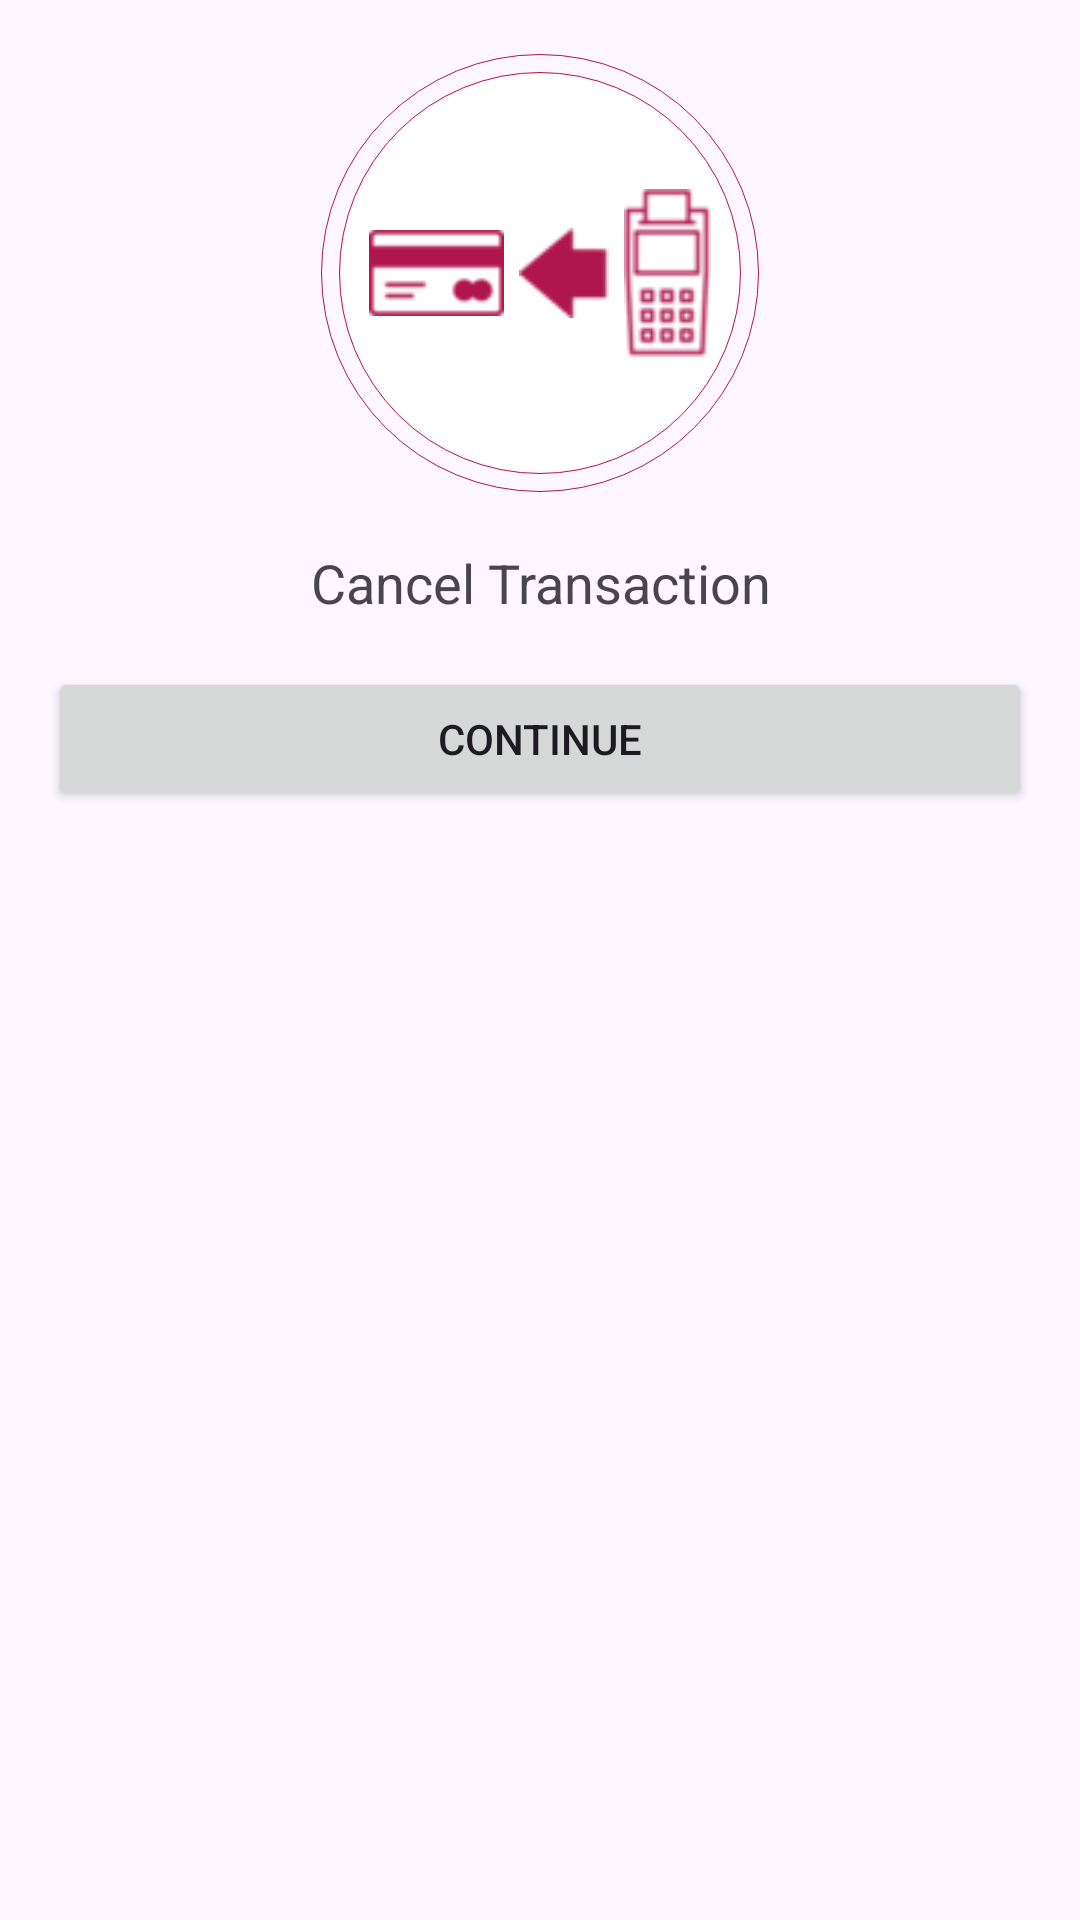

Icon click points for this 1080px×1920px phone screenshot, format point (x, y):
arrow: point (564, 273)
card one: point (436, 273)
pos: point (667, 273)
